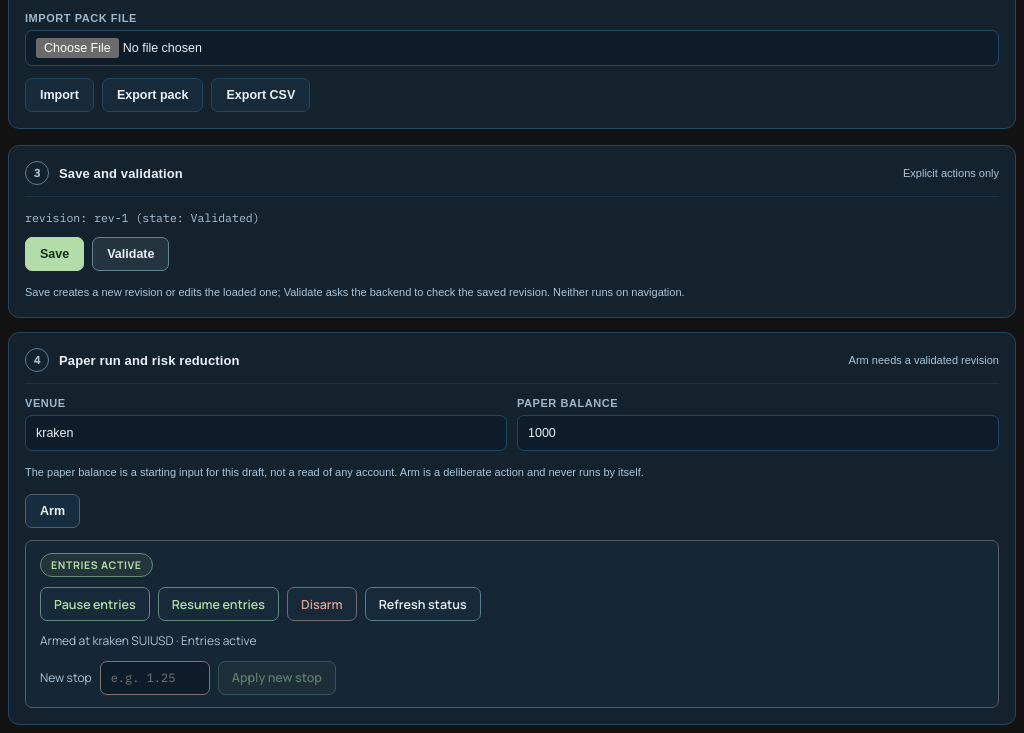
Test: EditorInlineStopControl raise-stop slice › refreshes status through the existing refresh path after a confirmed raise
(page scrolled)
Check: the button with test id "editor-inline-stop-apply" is disabled, box [218,661,336,695]
In the field with test id "editor-inline-stop-new-stop": (155,678) [100,661,210,695], type "3"
(page scrolled)
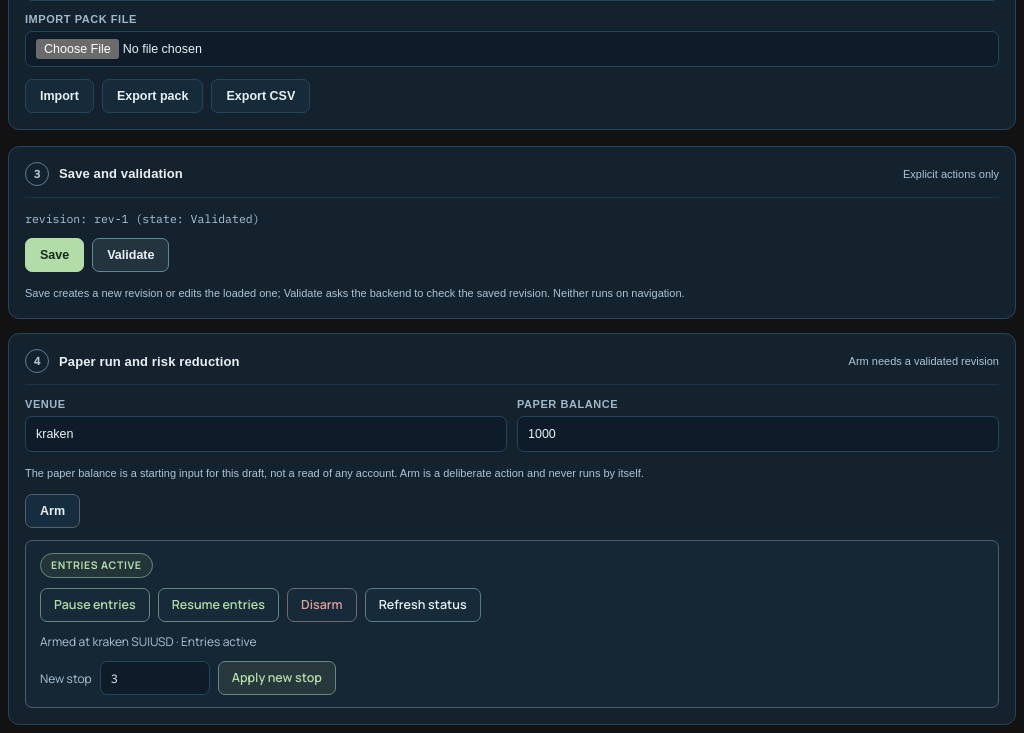
Check: the button with test id "editor-inline-stop-apply" is enabled
Click the button with test id "editor-inline-stop-apply": (277,678) [218,661,336,695]
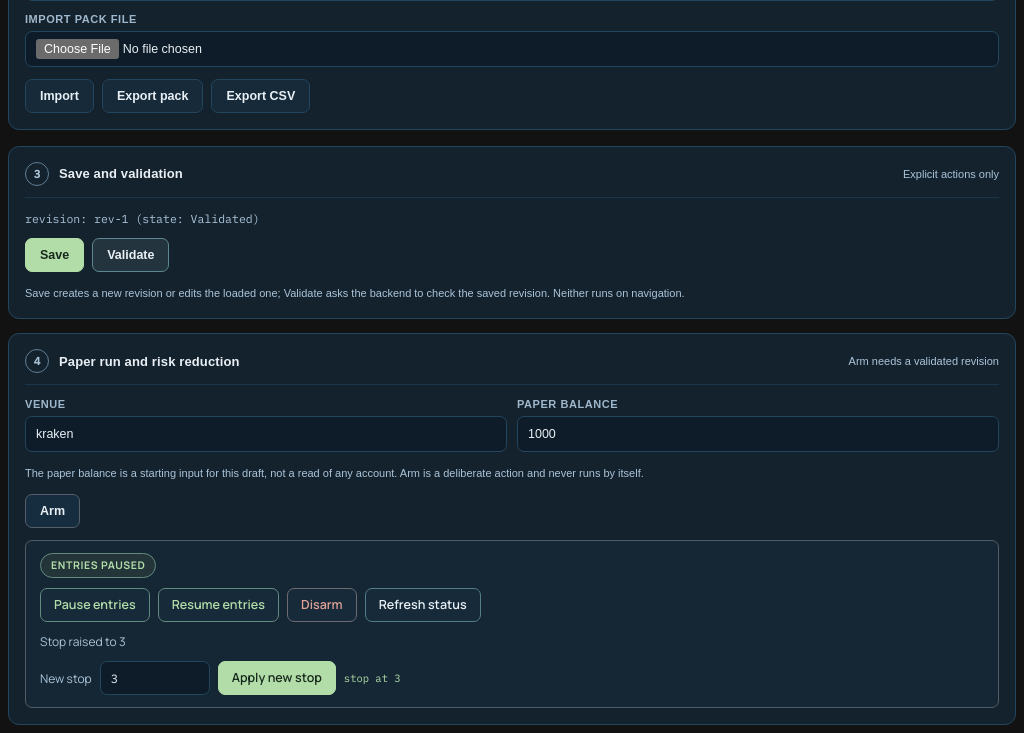
Check: the text with test id "editor-inline-stop-at" reads "stop at 3", box [344,671,401,685]
Check: the text with test id "editor-inline-stop-entries" reads "Entries paused", box [51,558,146,572]
